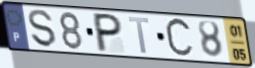8: (57, 10, 85, 52), (197, 19, 223, 61)
C: (164, 16, 196, 61)
P: (93, 11, 124, 53)
S: (27, 8, 59, 50)
T: (126, 15, 151, 55)
